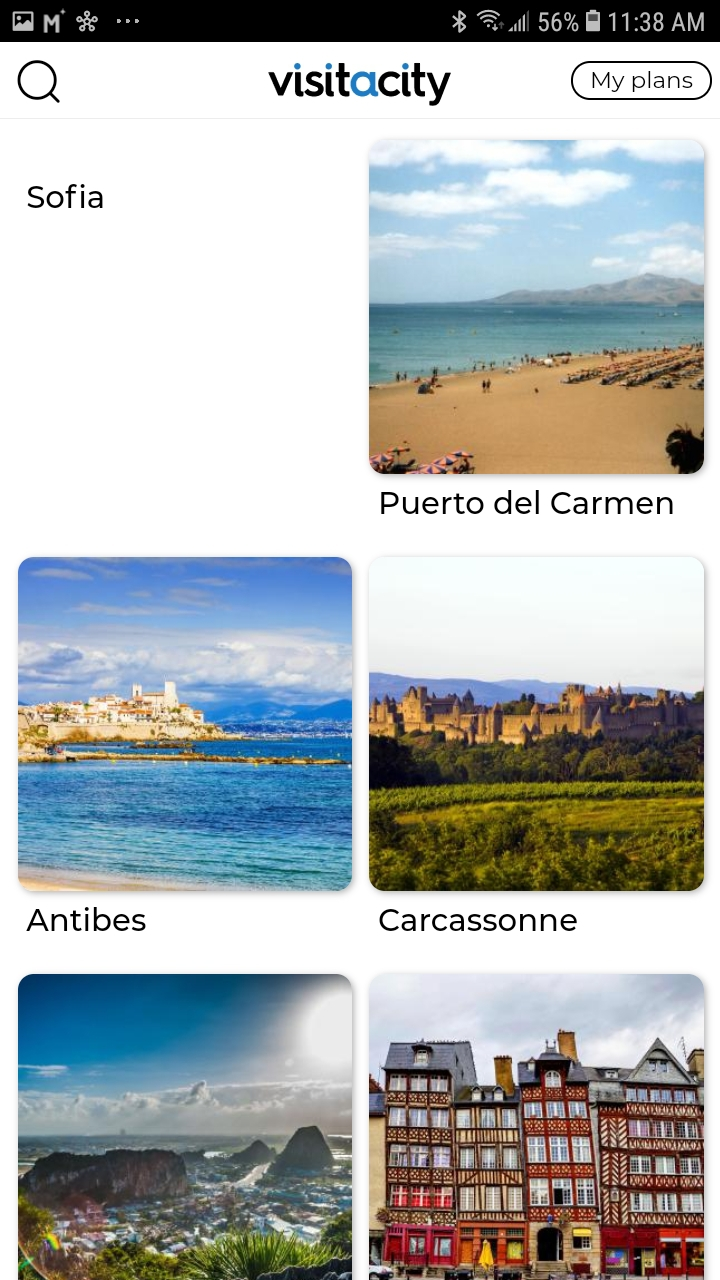Icon: (18, 60, 62, 104)
Image: (369, 556, 705, 892), (369, 140, 704, 475), (19, 557, 353, 893), (369, 974, 705, 1280), (18, 974, 353, 1280), (268, 62, 452, 108)
Text: (381, 490, 674, 516), (379, 908, 578, 932), (26, 906, 147, 932), (27, 184, 104, 210)
TextButton: (571, 62, 713, 102)
UpperTaskBar: (1, 1, 720, 43)
